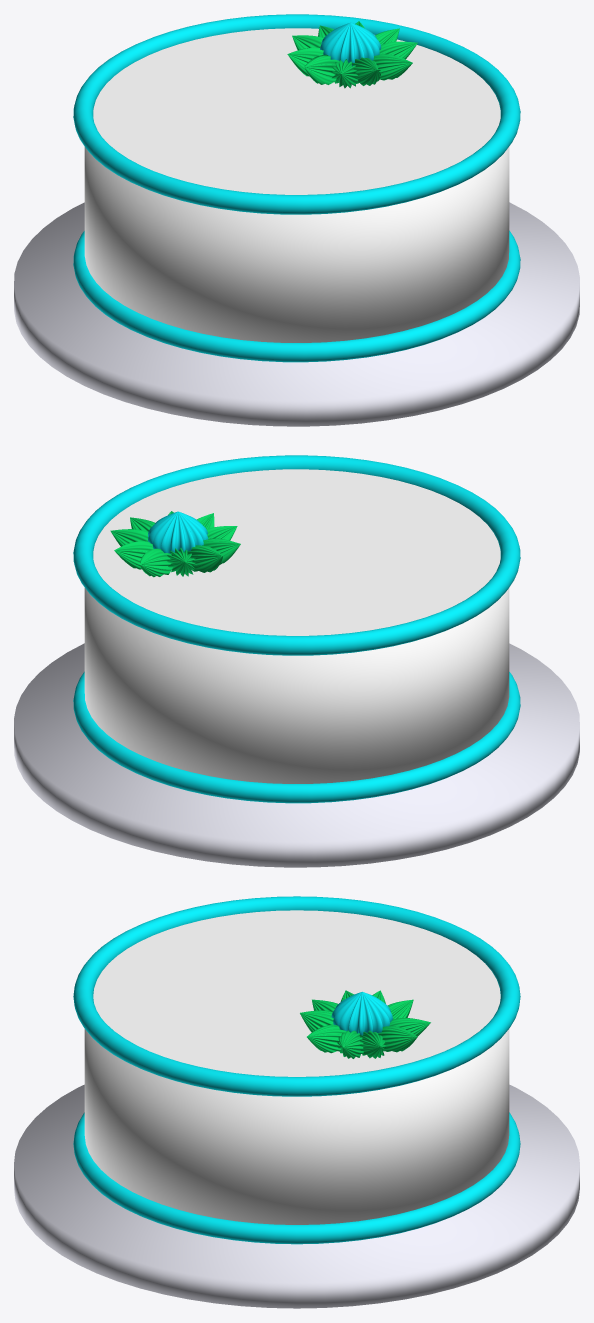
Rendered from round_vanilla_style3.glb.
3 renders of one model, top to bottom at view 1: azimuth 30°, elevation 25°; view 2: azimuth 150°, elevation 25°; view 3: azimuth 270°, elevation 25°, orthographic.
Visible parts, largest first — view 1: CakeBase, IcingStand, CakeTopCircle, IcingRing, IcingRing.001, leaf, design1; view 2: CakeBase, IcingStand, CakeTopCircle, IcingRing, IcingRing.001, leaf, design1; view 3: CakeBase, IcingStand, CakeTopCircle, IcingRing, IcingRing.001, leaf, design1.
Part boxes in pixels (x1,y1,x2,y2): CakeBase: [84, 147, 509, 342]; IcingStand: [14, 202, 579, 426]; CakeTopCircle: [93, 28, 500, 194]; IcingRing: [73, 14, 520, 214]; IcingRing.001: [73, 230, 520, 362]; leaf: [287, 21, 417, 88]; design1: [320, 22, 381, 66]; CakeBase: [84, 588, 509, 783]; IcingStand: [14, 643, 579, 867]; CakeTopCircle: [93, 469, 500, 635]; IcingRing: [73, 455, 520, 655]; IcingRing.001: [73, 671, 520, 803]; leaf: [110, 511, 240, 577]; design1: [148, 511, 208, 553]; CakeBase: [84, 1029, 509, 1224]; IcingStand: [14, 1084, 579, 1308]; CakeTopCircle: [93, 910, 500, 1076]; IcingRing: [73, 896, 520, 1096]; IcingRing.001: [73, 1112, 520, 1244]; leaf: [300, 990, 430, 1058]; design1: [331, 991, 392, 1035].
Size of the model in its own units: 4 by 1.87 by 4.
